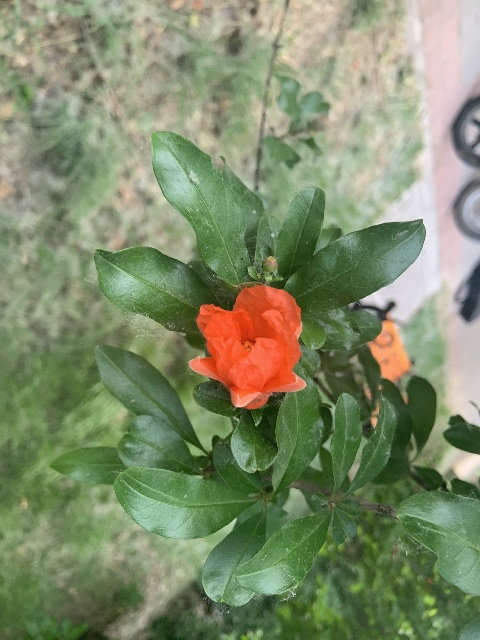flower: (189, 284, 305, 410)
